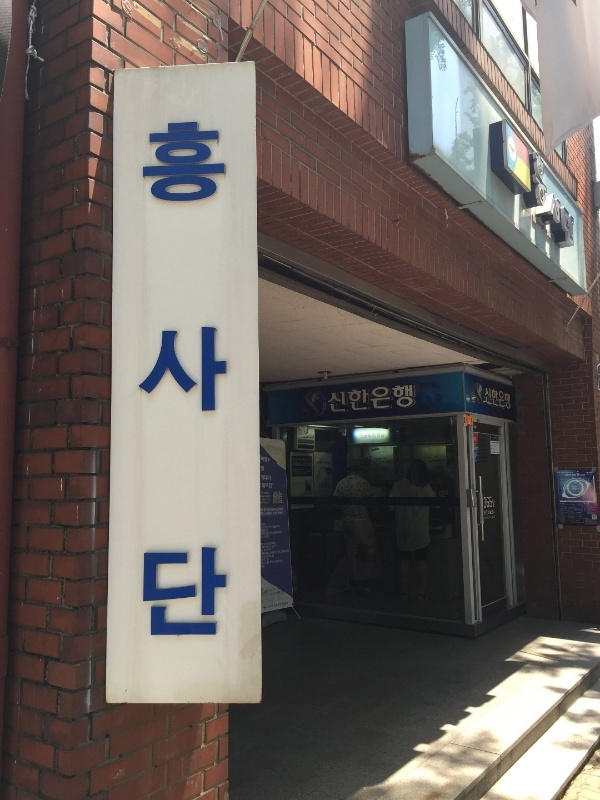text: (145, 113, 160, 647), (161, 113, 176, 647), (177, 113, 192, 647), (193, 113, 208, 647), (209, 113, 224, 647), (140, 113, 144, 647), (225, 113, 229, 647), (531, 147, 544, 211), (561, 191, 575, 250), (273, 522, 288, 574), (261, 522, 272, 574), (401, 383, 417, 416), (337, 383, 352, 416), (353, 383, 368, 416), (369, 383, 384, 416), (385, 383, 400, 416), (552, 191, 560, 250), (497, 387, 511, 410), (483, 387, 496, 410), (327, 383, 336, 416), (545, 147, 549, 211), (483, 496, 496, 509), (273, 601, 288, 610), (289, 522, 291, 574), (484, 509, 496, 517), (261, 456, 272, 464), (261, 466, 272, 473), (262, 475, 272, 482), (293, 462, 304, 468), (261, 511, 272, 517), (262, 483, 272, 489), (273, 511, 283, 517), (565, 473, 576, 478), (261, 508, 272, 513), (273, 508, 284, 513), (577, 473, 586, 478), (305, 462, 312, 468), (268, 601, 272, 610), (492, 499, 496, 507)
